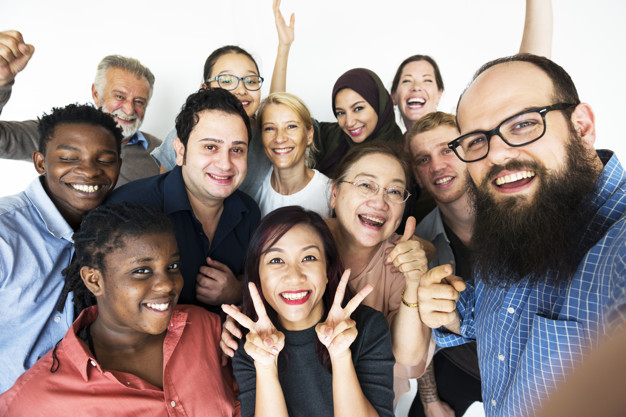person: (441, 44, 617, 322), (48, 195, 215, 391), (233, 198, 400, 383), (145, 86, 276, 259), (314, 55, 402, 191)
